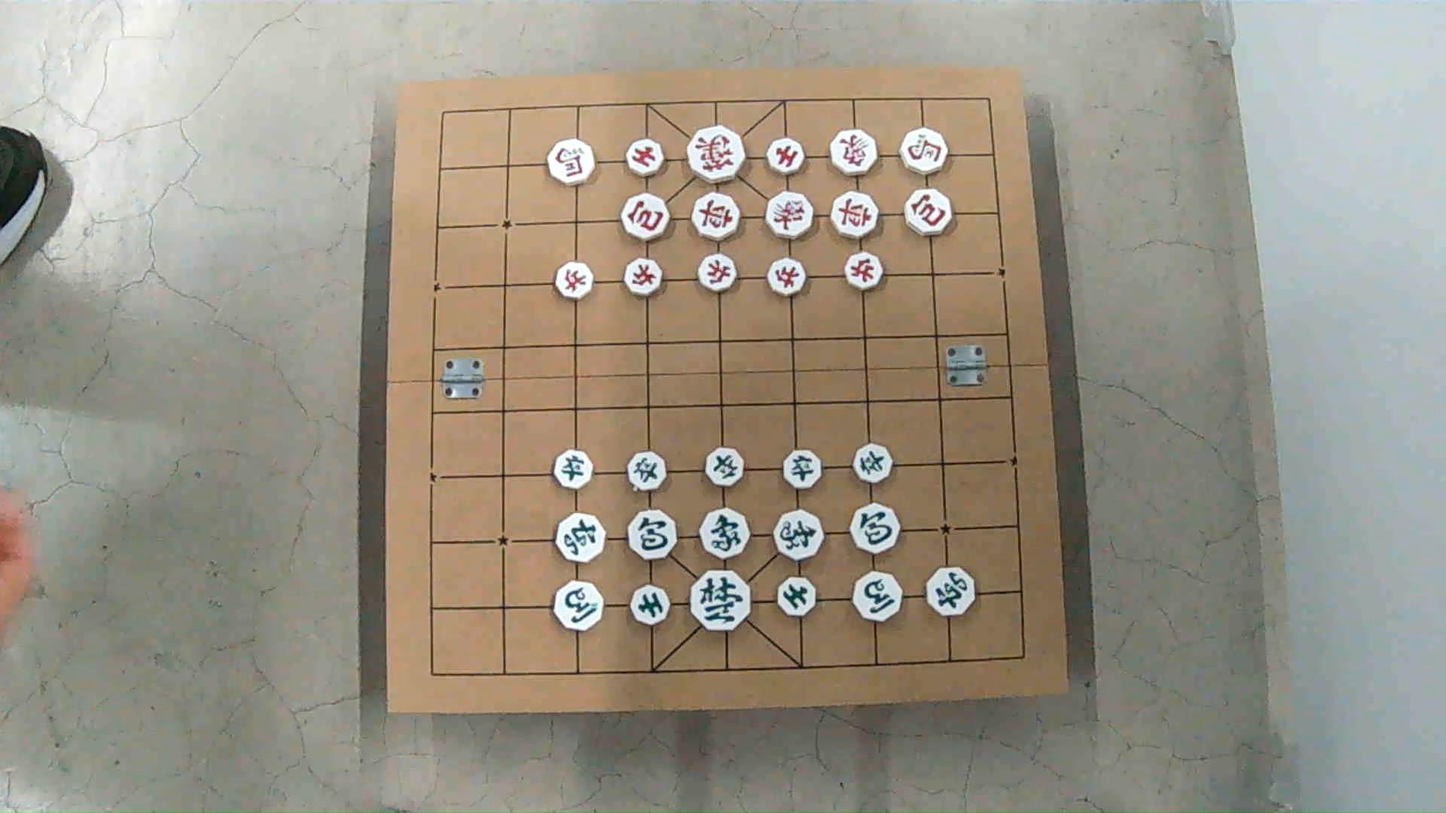cha_green: (555, 513, 604, 562), (925, 567, 974, 616)
cha_red: (692, 193, 739, 240), (831, 192, 877, 239)
jol_green: (853, 443, 892, 483), (627, 452, 665, 492), (704, 448, 743, 486), (783, 449, 820, 489), (554, 449, 591, 489)
jol_red: (844, 252, 883, 291), (624, 257, 662, 296), (697, 254, 735, 292), (555, 262, 592, 300), (768, 258, 805, 296)
ma_green: (853, 571, 901, 621), (554, 581, 602, 631)
ma_red: (900, 128, 947, 175), (547, 139, 594, 185)
po_green: (627, 510, 676, 561), (850, 504, 899, 553)
po_red: (621, 193, 668, 242), (904, 189, 951, 236)
sa_green: (631, 584, 669, 625), (777, 577, 815, 616)
sa_red: (625, 139, 664, 176), (767, 138, 804, 175)
sang_green: (773, 510, 822, 561), (700, 508, 749, 559)
sang_red: (766, 191, 813, 239), (830, 129, 877, 175)
wang_green: (691, 569, 750, 632)
wang_red: (688, 125, 743, 181)
